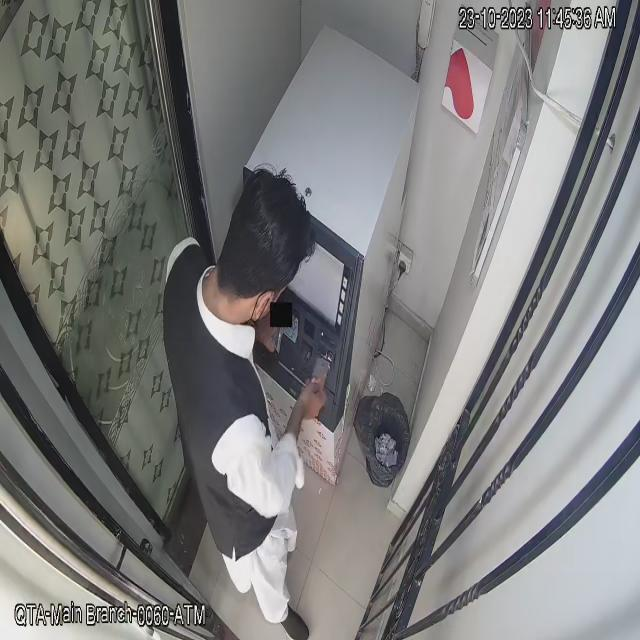atm-card: (308, 351, 334, 394)
